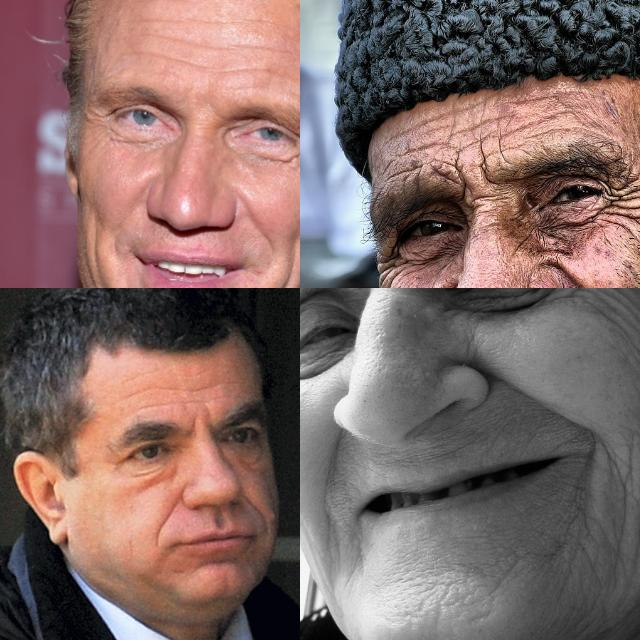bunny_line: (512, 232, 534, 258)
chin: (576, 510, 608, 564)
crows_feet: (80, 102, 112, 150), (609, 178, 640, 222), (375, 250, 403, 280)
forehead: (145, 29, 209, 79), (506, 112, 568, 138), (160, 381, 230, 404), (450, 107, 486, 145), (233, 48, 271, 82), (118, 370, 150, 408), (400, 139, 438, 167)
frown_line: (481, 152, 504, 194), (452, 164, 476, 204), (184, 413, 202, 443)
gummy_smile: (498, 373, 576, 422), (316, 436, 352, 496), (234, 198, 276, 246), (158, 486, 182, 546), (551, 261, 600, 288), (240, 493, 270, 532)
masseter: (82, 216, 106, 288), (625, 461, 640, 548), (254, 264, 298, 288)
sad_smile: (584, 423, 620, 483)
